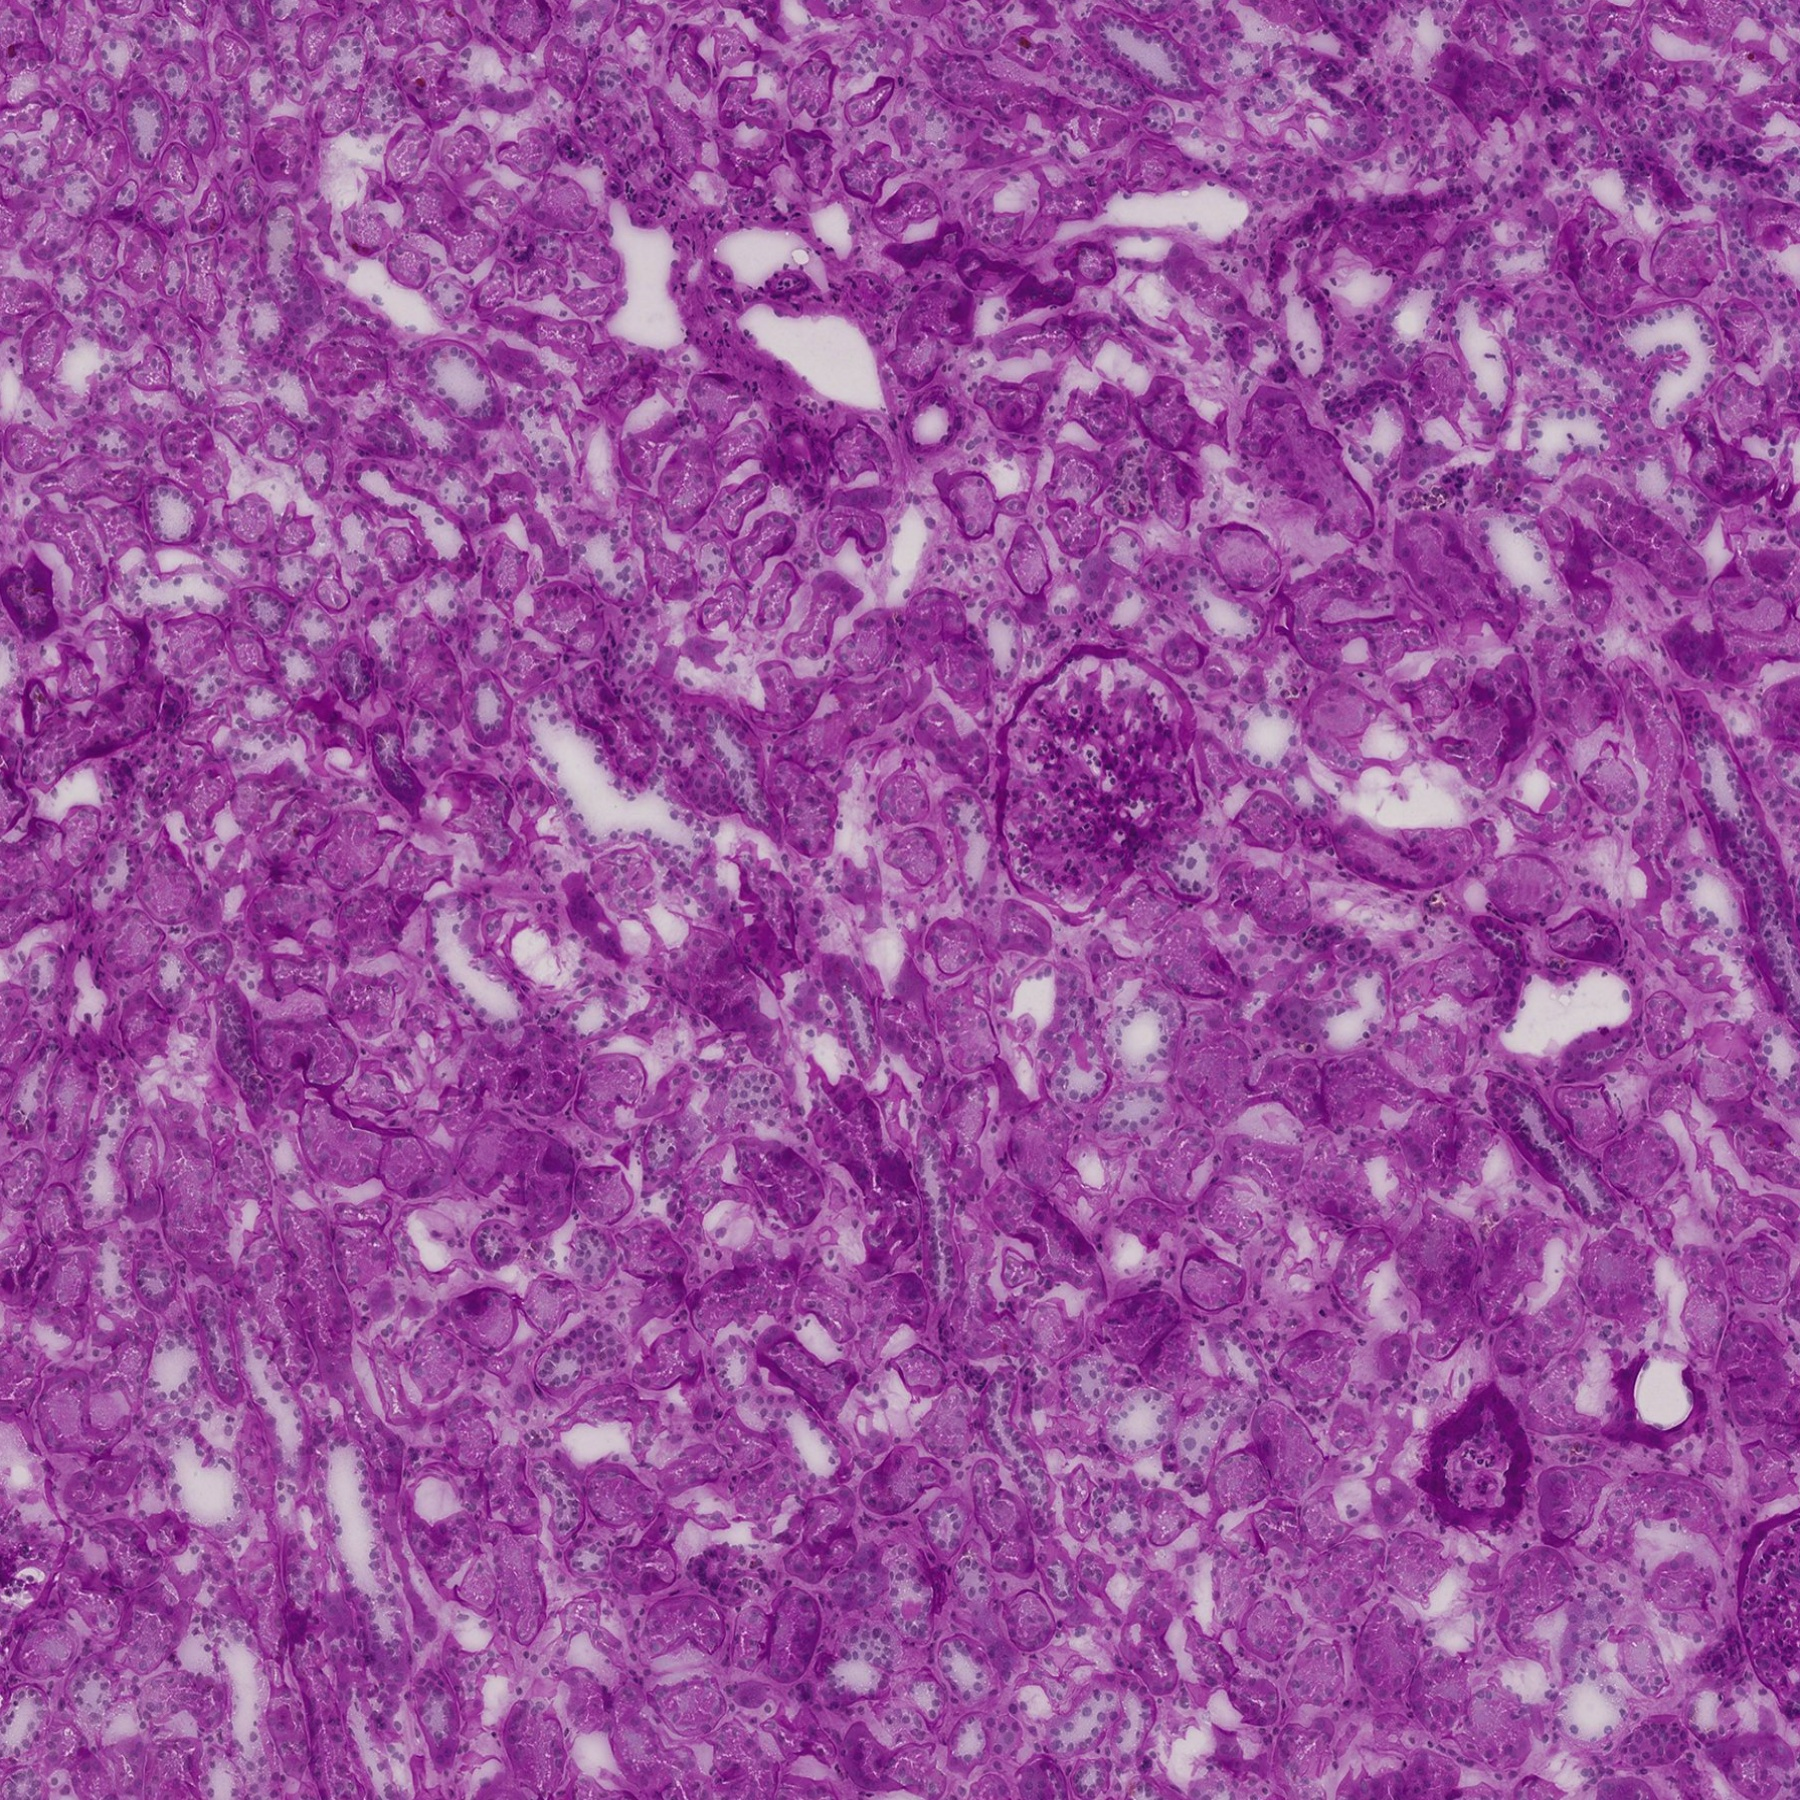Glomeruli: (986, 646, 1203, 941), (1732, 1500, 1800, 1727)
